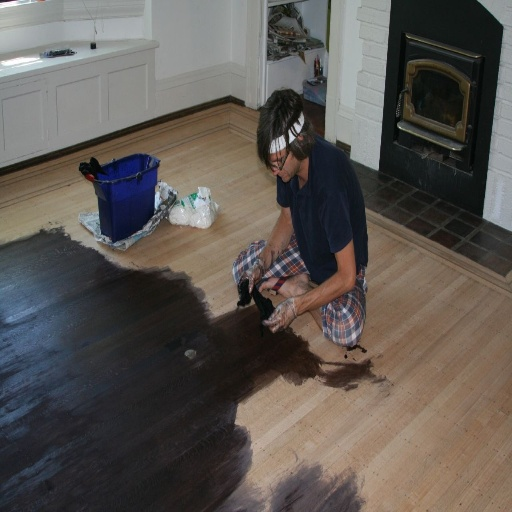hand: (263, 280, 316, 338), (238, 264, 263, 294)
